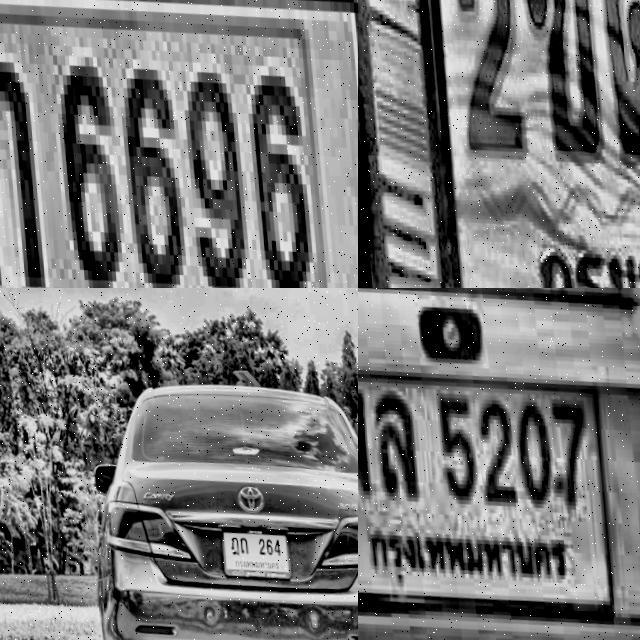license-plate: (0, 0, 358, 288), (358, 0, 640, 288), (358, 341, 613, 623), (212, 513, 293, 587)
